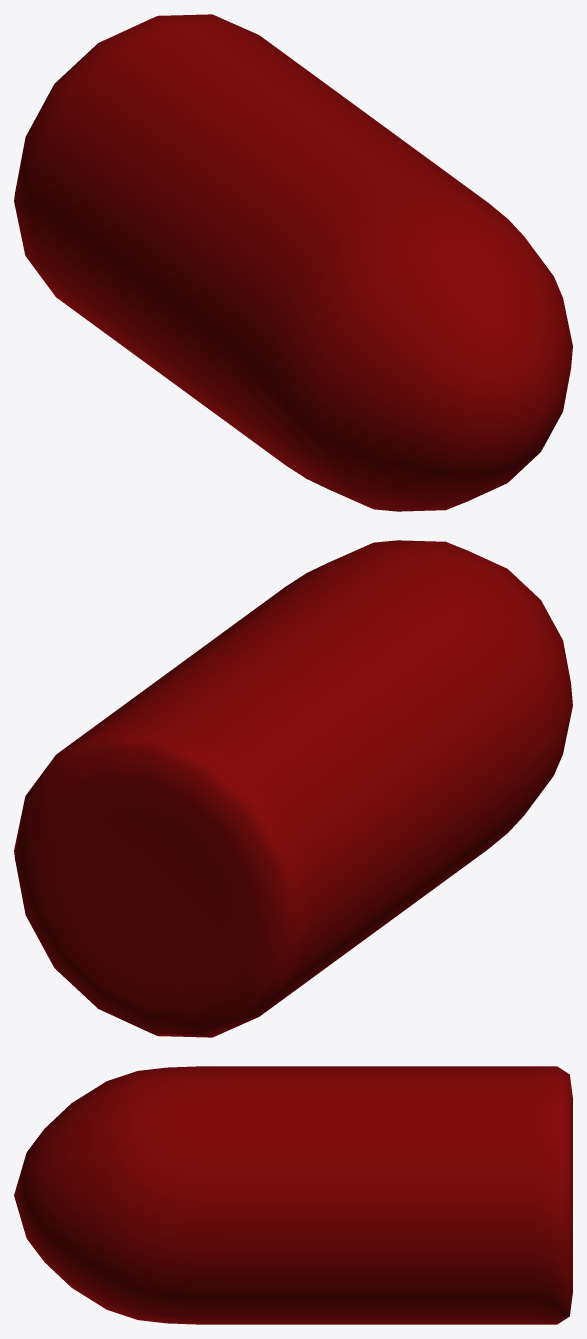
The model's file is PistolAmmoRed.fbx.
The picture shows the model from 3 angles, top to bottom: view 1: azimuth 30°, elevation 25°; view 2: azimuth 150°, elevation 25°; view 3: azimuth 270°, elevation 25°; orthographic projection. The views are drawn at different scales.
Parts seen in each view (by area): view 1: PistolAmmo; view 2: PistolAmmo; view 3: PistolAmmo.
Boxes of the visible parts, left/top/right/bottom form: PistolAmmo: left=14, top=14, right=572, bottom=511; PistolAmmo: left=14, top=540, right=572, bottom=1037; PistolAmmo: left=14, top=1066, right=572, bottom=1324.
Size of the model in its own units: 0.3584 by 0.3584 by 0.7728.
